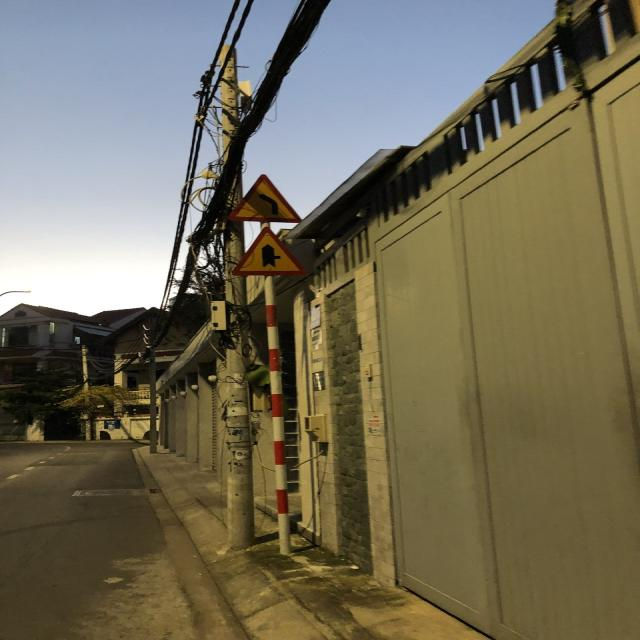Bien bao cho ngoat nguy hiem: (218, 171, 307, 225)
Bien bao giao nhau voi duong khong uu tien: (226, 226, 314, 280)
